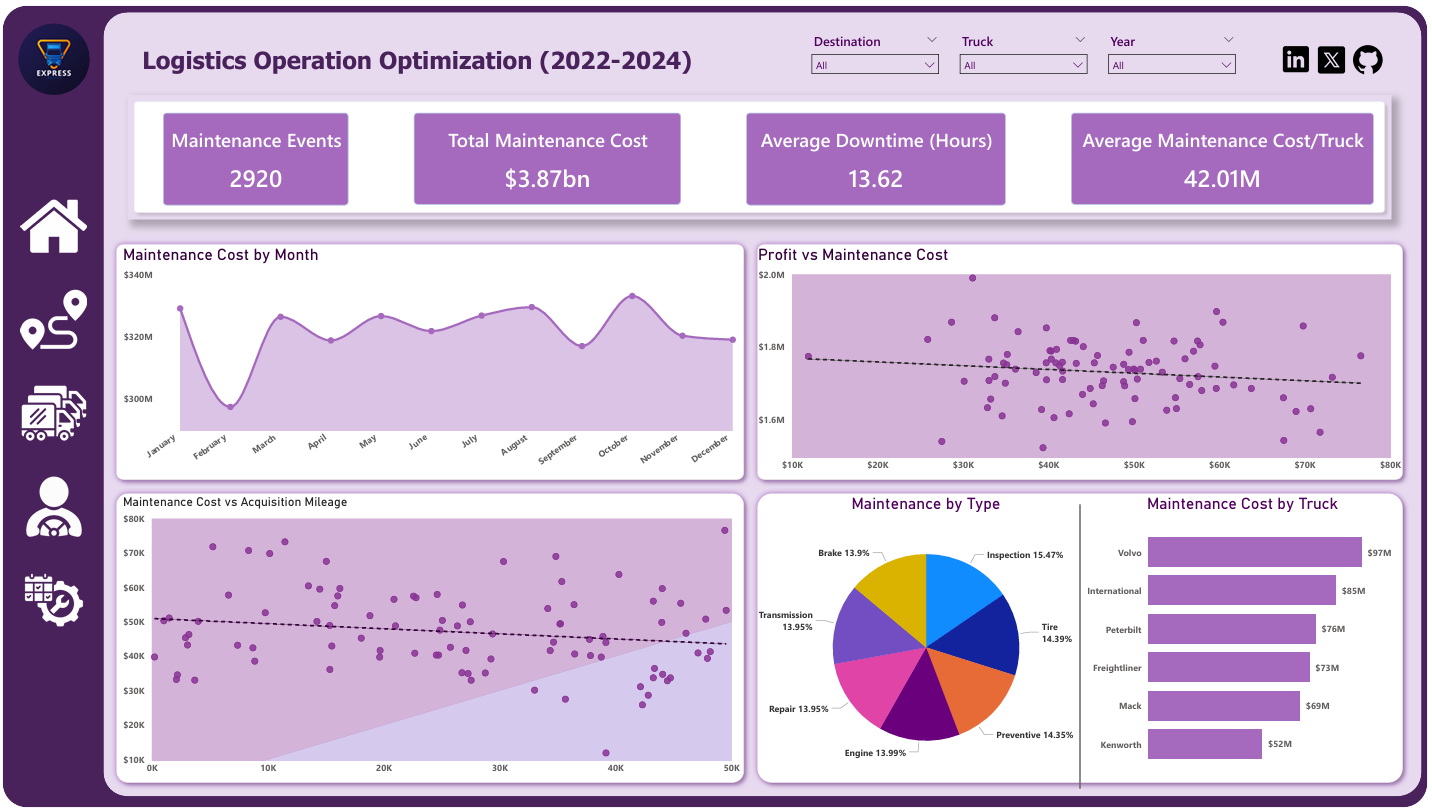

The page's visual inventory and layout, read from the dashboard file:
{"tool":"powerbi","page":{"name":"Maintenance Analysis","canvas":[1920,1080],"ordinal":4},"visuals":[{"type":"shape","box":[0,0,1920,1080],"z":0},{"type":"shape","box":[168,120,1704,168],"z":0,"group":"g8"},{"type":"card","title":"Maintenance Events","fields":{"Values":["Count(maintenance_records.maintenance_id)"]},"box":[216,144,250,124.6],"z":6,"group":"g1"},{"type":"card","title":"Total Maintenance Cost","fields":{"Values":["Sum(logistics_data.maintenance_cost)"]},"box":[554,144,360,124],"z":6,"group":"g2"},{"type":"card","title":"Average Downtime (Hours)","fields":{"Values":["Avg(logistics_data.downtime_hours)"]},"box":[1002,144,350,124.6],"z":6,"group":"g3"},{"type":"card","title":"Average Maintenance Cost/Truck","fields":{"Values":["logistics_data.Avearge Maintenance Cost/Tuck"]},"box":[1440,144,408,124],"z":6,"group":"g5"},{"type":"shape","box":[136,9,1776,1056],"z":1000},{"type":"group","id":"g1","title":"Group 1","box":[216,144,250,124.6],"z":1000,"group":"g8"},{"type":"shape","box":[144,312,864,336],"z":1000,"group":"g9"},{"type":"shape","box":[1008,312,888,336],"z":1000,"group":"g7"},{"type":"shape","box":[144,648,864,408],"z":1000,"group":"g4"},{"type":"group","id":"g2","title":"Group 1","box":[554,144,360,124],"z":2000,"group":"g8"},{"type":"shape","box":[1008,648,888,408],"z":2000},{"type":"group","id":"g3","title":"Group 1","box":[1002,144,350,124.6],"z":3000,"group":"g8"},{"type":"group","id":"g4","title":"Group 3","box":[144,648,864,408],"z":3000},{"type":"shape","box":[1008,672,888,382.6],"z":3000,"group":"g6"},{"type":"textbox","box":[182.5,47.5,805,80],"z":4000},{"type":"image","box":[1765.6,48,50,50],"z":5000},{"type":"group","id":"g5","title":"Group 1","box":[1440,144,408,124],"z":5000,"group":"g8"},{"type":"image","box":[1814.6,48,50,50],"z":6000},{"type":"image","box":[1718.6,48,48,48],"z":7000},{"type":"image","box":[21,24,96,96],"z":8000},{"type":"image","box":[24,252,90,90],"z":9000},{"type":"image","box":[24,504,90,90],"z":10000},{"type":"image","box":[24,630,90,90],"z":11000},{"type":"barChart","title":"Maintenance Cost by Truck","fields":{"Category":["logistics_data.Truck"],"Y":["Sum(logistics_data.maintenance_cost)"]},"box":[1455,658,432,384],"z":11000,"group":"g6"},{"type":"image","box":[24,756,90,90],"z":12000},{"type":"image","box":[24,378,90,90],"z":13000},{"type":"pieChart","title":"Maintenance by Type","fields":{"Category":["maintenance_records.maintenance_type"],"Y":["Count(maintenance_records.maintenance_id)"]},"box":[1013,658,463,388],"z":13000,"group":"g6"},{"type":"slicer","fields":{"Values":["logistics_data.dispatch_date.Variation.Date Hierarchy.Year"]},"box":[1480,30,192,72],"z":14000},{"type":"slicer","fields":{"Values":["logistics_data.Truck"]},"box":[1280,30,192,72],"z":15000},{"type":"slicer","fields":{"Values":["logistics_data.destination_state"]},"box":[1080,30,192,72],"z":16000},{"type":"group","id":"g6","title":"Group 1","box":[1008,658,888,396.6],"z":17000},{"type":"group","id":"g7","title":"Group 4","box":[1008,312,888,336],"z":18000},{"type":"group","id":"g8","title":"Group 6","box":[168,120,1704,168],"z":19000},{"type":"group","id":"g9","title":"Group 4","box":[144,312,864,336],"z":20000},{"type":"scatterChart","title":"Profit vs Maintenance Cost","fields":{"X":["logistics_data.maintenance_cost"],"Y":["logistics_data.profit"]},"box":[1013,323,877,314],"z":21000},{"type":"lineChart","title":"Maintenance Cost by Month","fields":{"Category":["logistics_data.dispatch_date.Variation.Date Hierarchy.Month"],"Y":["Sum(logistics_data.maintenance_cost)"]},"box":[157,323,859,316],"z":22000},{"type":"scatterChart","title":"Maintenance Cost vs Acquisition Mileage","fields":{"Y":["logistics_data.maintenance_cost"],"X":["logistics_data.acquisition_mileage"]},"box":[157,658,841,388],"z":23000}]}

Visuals, with their boxes in screenshot pixels (x1, y1, x2, y2), scaled from the page's 1920x1080 canvas onto the 1432x810 screenshot:
shape: 0 0 1431 809
shape: 125 90 1396 216
"Maintenance Events" card: 161 108 348 201
"Total Maintenance Cost" card: 413 108 682 201
"Average Downtime (Hours)" card: 747 108 1008 201
"Average Maintenance Cost/Truck" card: 1074 108 1378 201
shape: 101 7 1426 799
"Group 1" group: 161 108 348 201
shape: 107 234 752 486
shape: 752 234 1414 486
shape: 107 486 752 792
"Group 1" group: 413 108 682 201
shape: 752 486 1414 792
"Group 1" group: 747 108 1008 201
"Group 3" group: 107 486 752 792
shape: 752 504 1414 791
textbox: 136 36 737 96
image: 1317 36 1354 74
"Group 1" group: 1074 108 1378 201
image: 1353 36 1391 74
image: 1282 36 1318 72
image: 16 18 87 90
image: 18 189 85 256
image: 18 378 85 446
image: 18 472 85 540
"Maintenance Cost by Truck" barChart: 1085 494 1407 782
image: 18 567 85 634
image: 18 284 85 351
"Maintenance by Type" pieChart: 756 494 1101 784
slicer - logistics_data.dispatch_date.Variation.Date Hierarchy.Year: 1104 22 1247 76
slicer - logistics_data.Truck: 955 22 1098 76
slicer - logistics_data.destination_state: 806 22 949 76
"Group 1" group: 752 494 1414 791
"Group 4" group: 752 234 1414 486
"Group 6" group: 125 90 1396 216
"Group 4" group: 107 234 752 486
"Profit vs Maintenance Cost" scatterChart: 756 242 1410 478
"Maintenance Cost by Month" lineChart: 117 242 758 479
"Maintenance Cost vs Acquisition Mileage" scatterChart: 117 494 744 784
